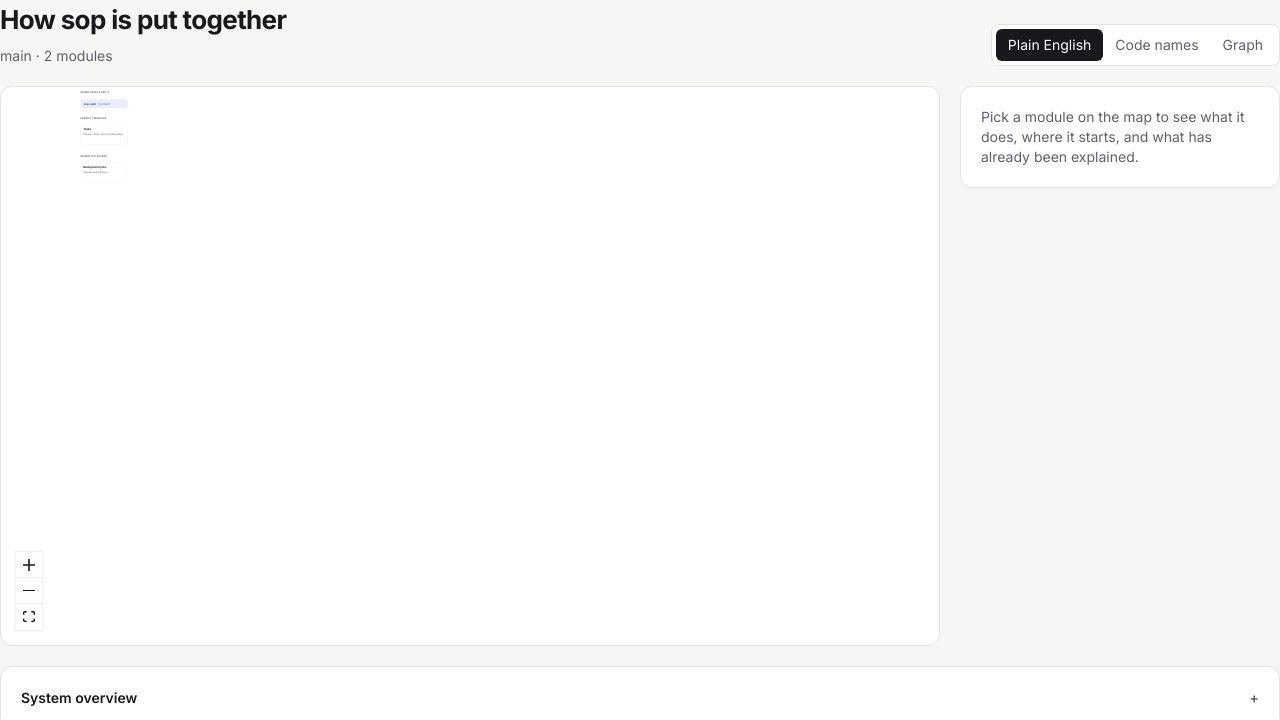
Scenario: graph_view_with_no_links_explains_why
Click the radio button labelled "Graph".
click(1243, 45)  # box [1211,29,1275,61]
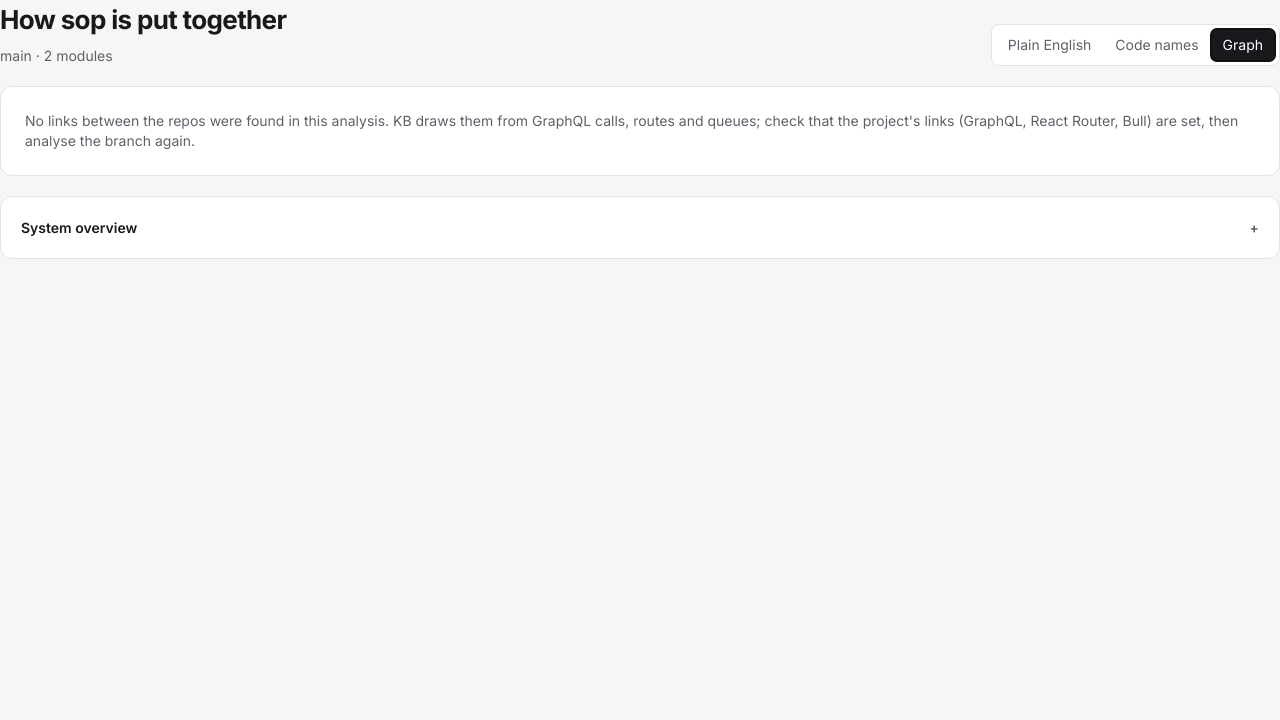
expect the text "No links between the repos were found" is shown: met, box [25,112,1238,149]
